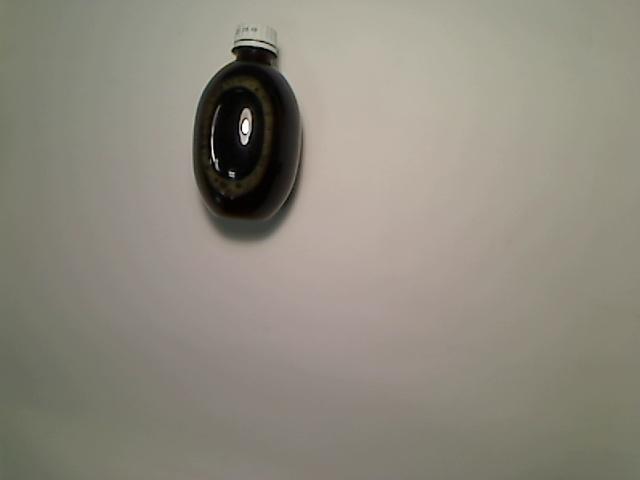plast_bottle: (189, 21, 307, 223)
